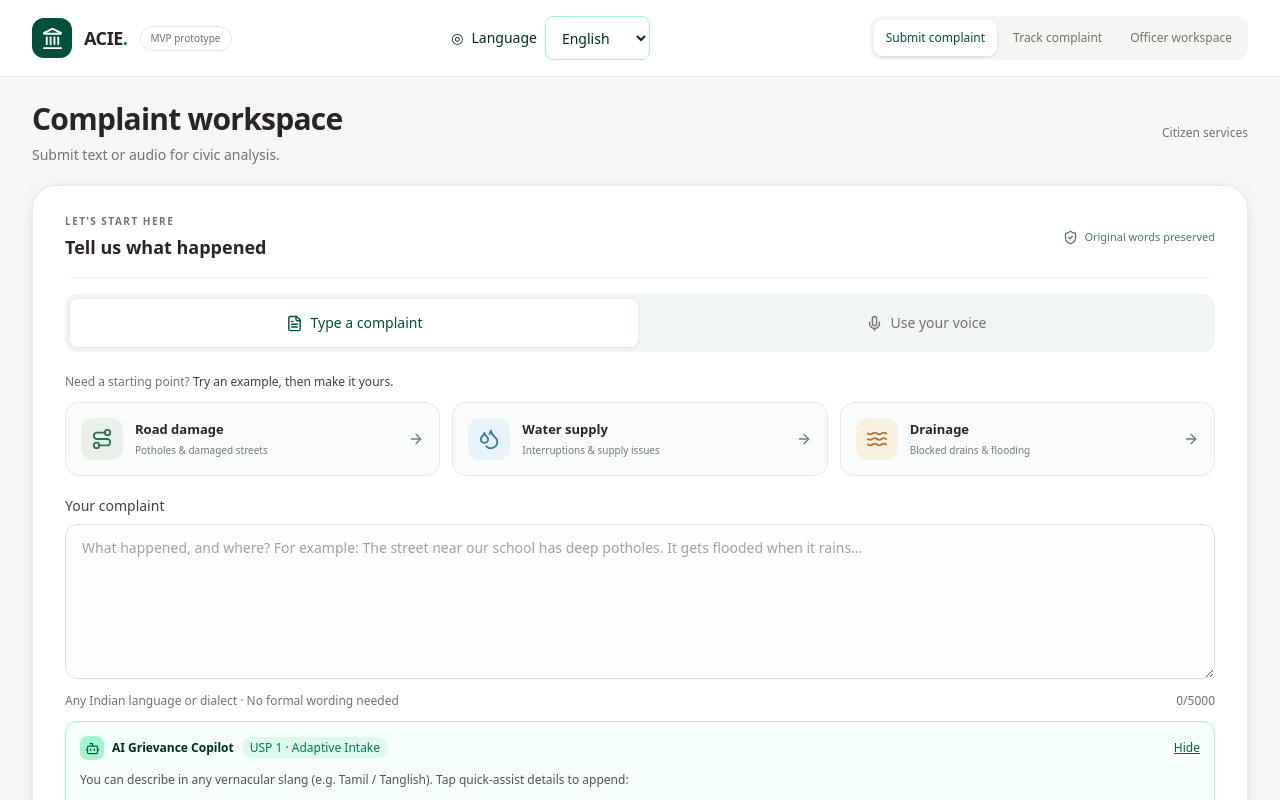
Test: changes the whole website language while preserving the complaint draft
The width and height of the screenshot is (1280, 800).
Type "Road romba mosama." into the text box labelled "Your complaint" at x=640, y=602, box [65,524,1215,679]
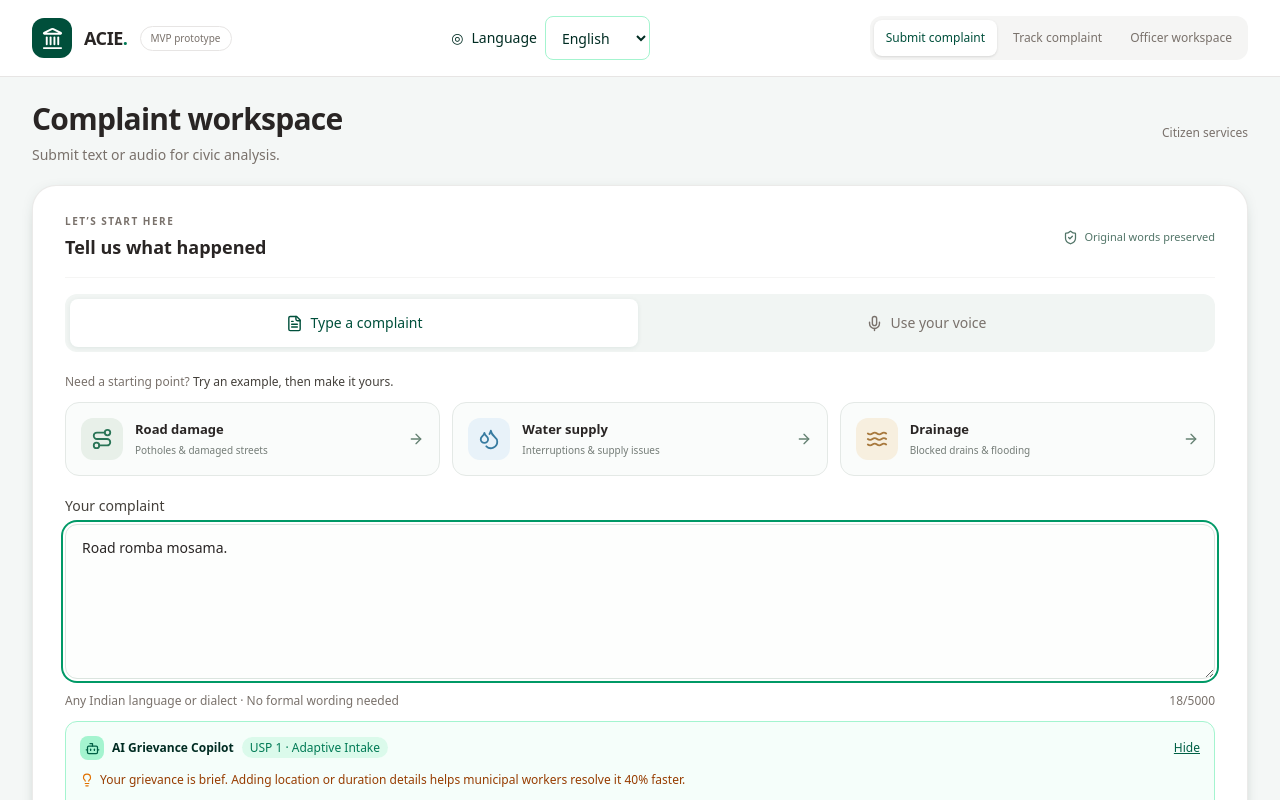
Select "தமிழ்" in the dropdown named "Website language" at x=597, y=38, box [545,16,650,60]
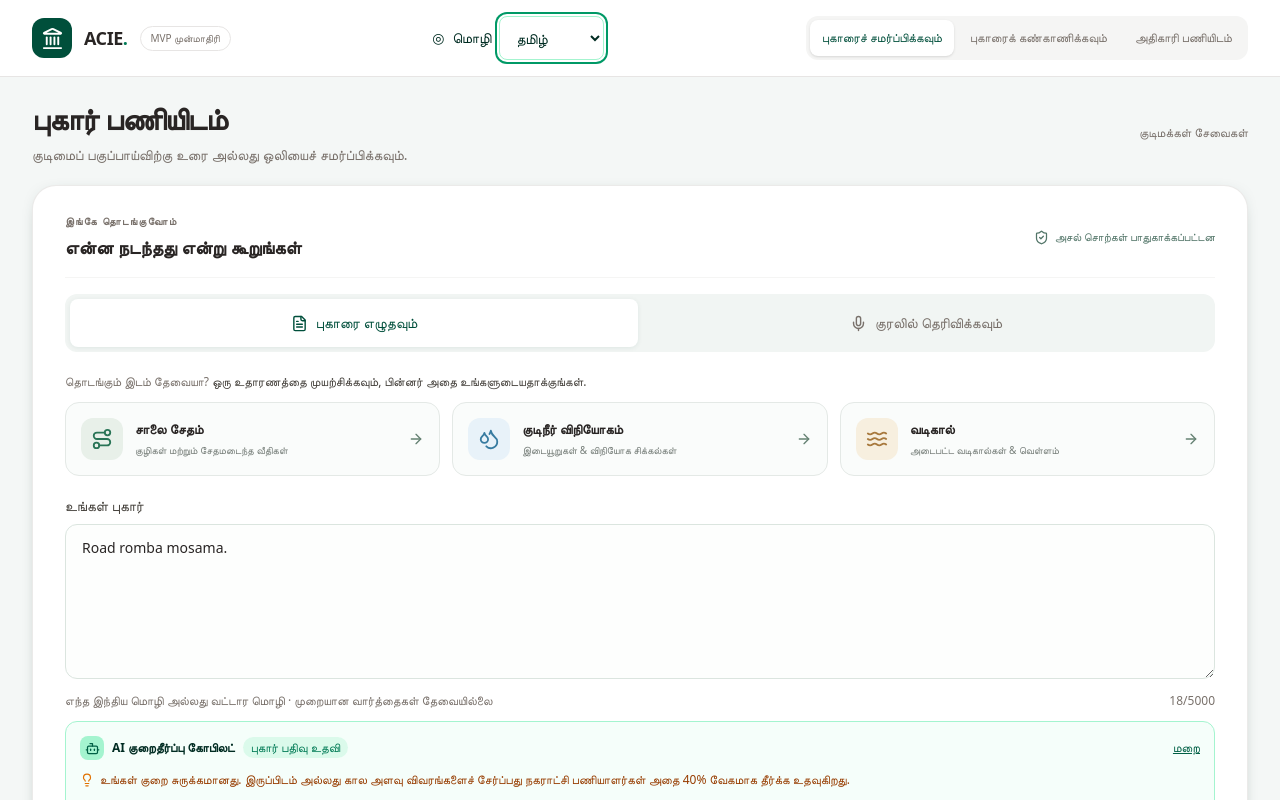
Expected: the button "புகாரைச் சமர்ப்பிக்கவும்" is shown, [810,20,954,56]
Click the button "புகாரைக் கண்காணிக்கவும்" at x=1038, y=38, box [958,20,1119,56]
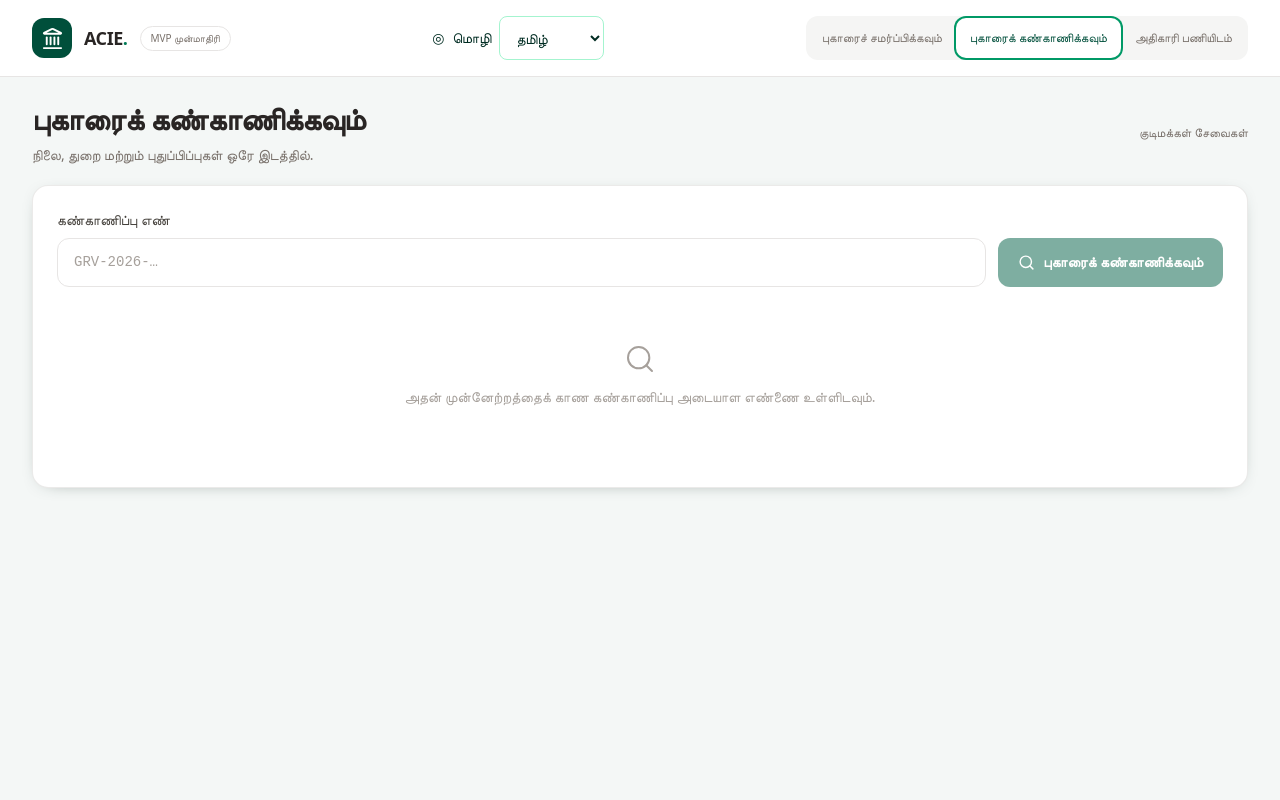
Expected: the field labelled "கண்காணிப்பு எண்" is shown, [57,238,986,287]
Select "हिन्दी" in the dropdown named "Website language" at x=552, y=38, box [499,16,604,60]
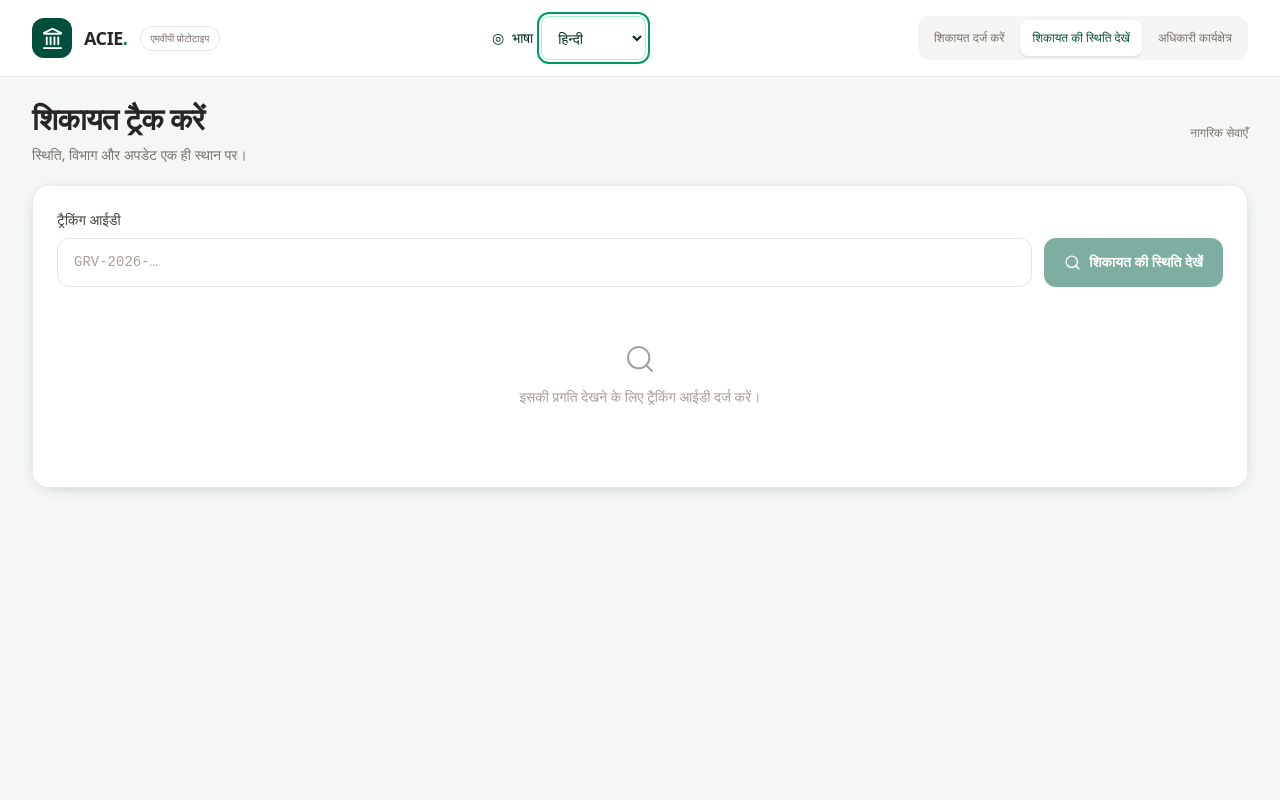
Expected: the field labelled "ट्रैकिंग आईडी" is shown, [57,238,1032,287]
Click the button "अधिकारी कार्यक्षेत्र" at x=1195, y=38, box [1146,20,1244,56]
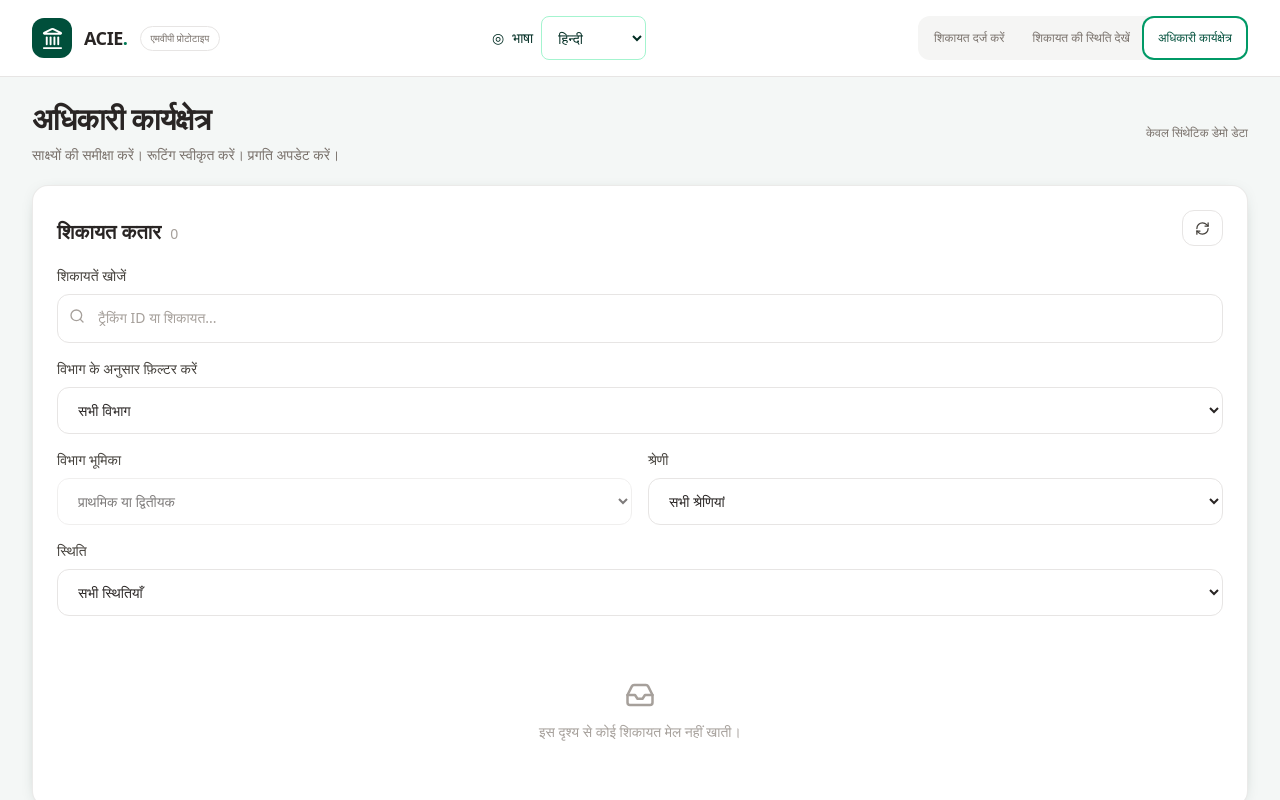
Expected: the dropdown labelled "विभाग के अनुसार फ़िल्टर करें" is shown, [57,387,1223,434]
